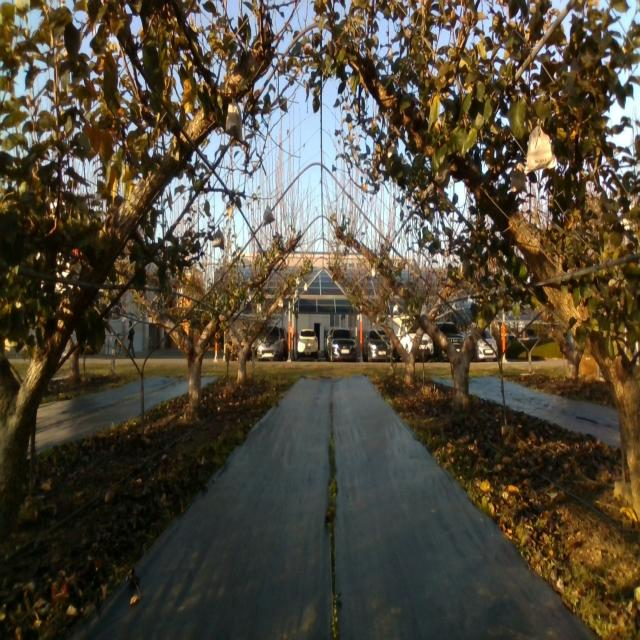pearbags: (524, 119, 558, 174), (225, 99, 243, 143), (510, 162, 527, 194), (213, 227, 225, 250), (263, 206, 275, 225)
